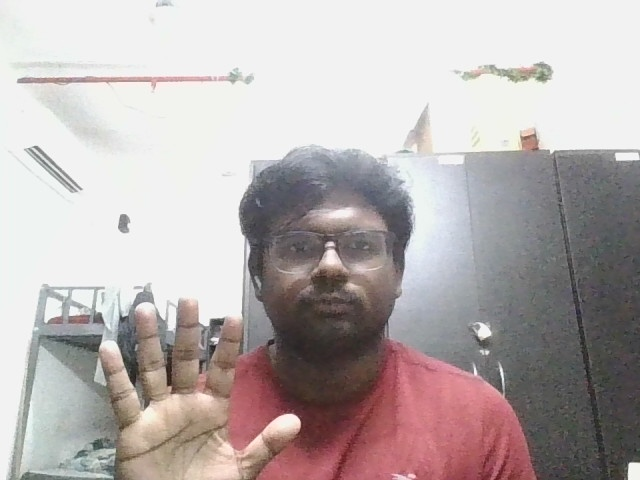Hello: (90, 287, 307, 479)
